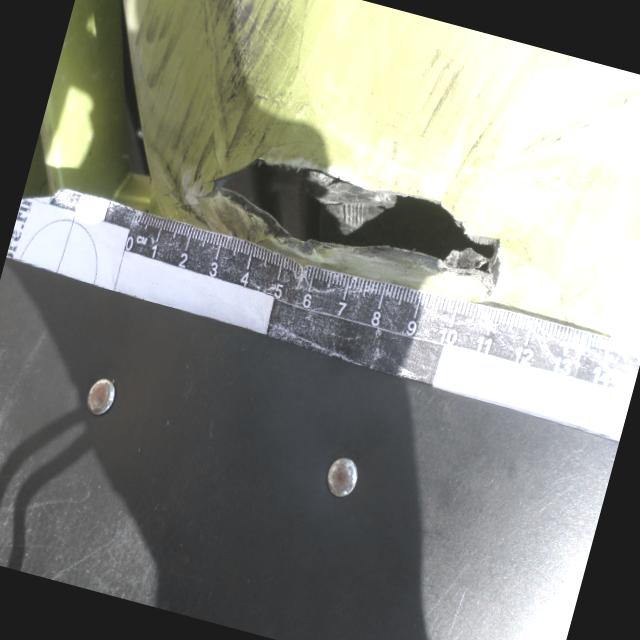Dechirure: (207, 131, 526, 292)
Rayure: (377, 33, 520, 213)
